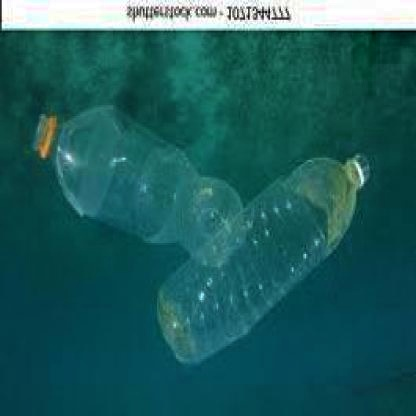pbottle: (149, 147, 377, 372), (30, 94, 246, 267)
